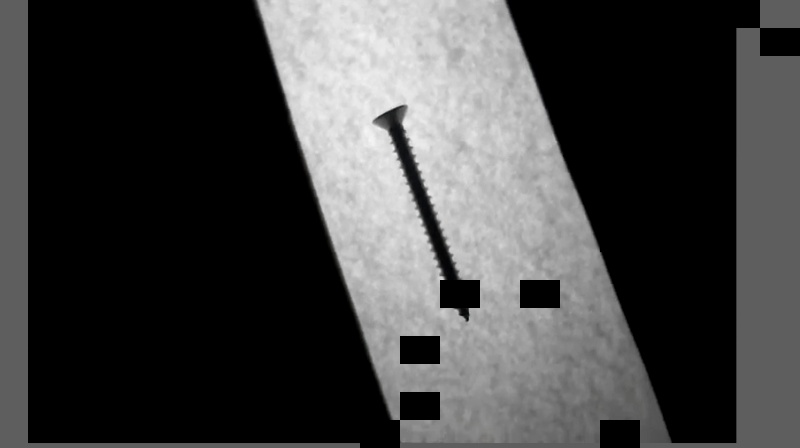S002: (369, 102, 472, 325)
